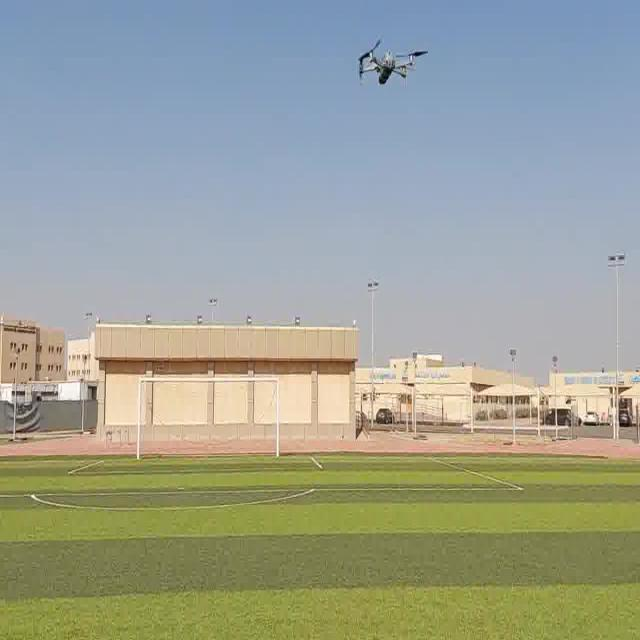drone: (350, 32, 434, 96)
